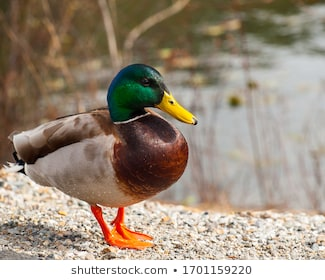duck: (2, 62, 222, 249)
